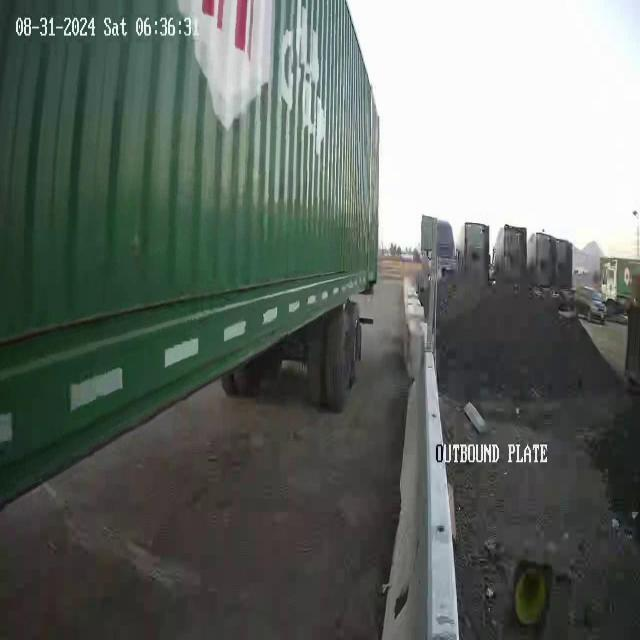CONTAINER: (1, 1, 380, 504)
